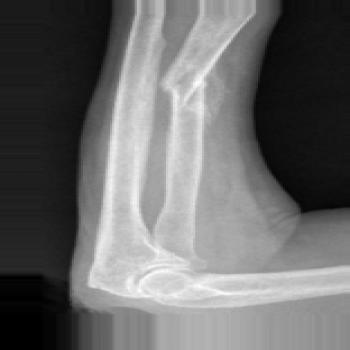Fracture: (163, 70, 222, 112)
